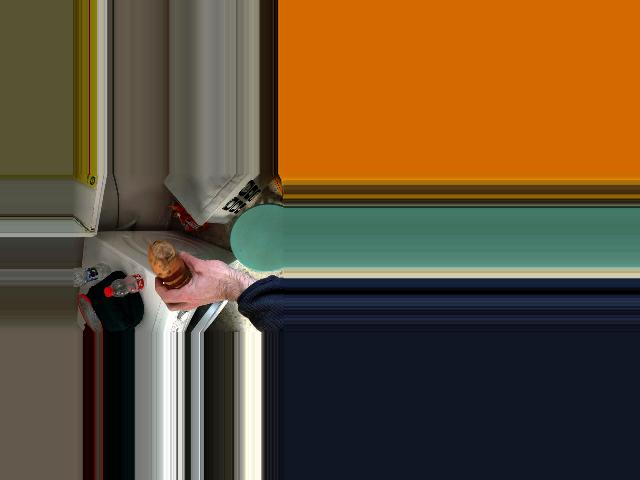sweet_potato: (146, 242, 190, 285)
